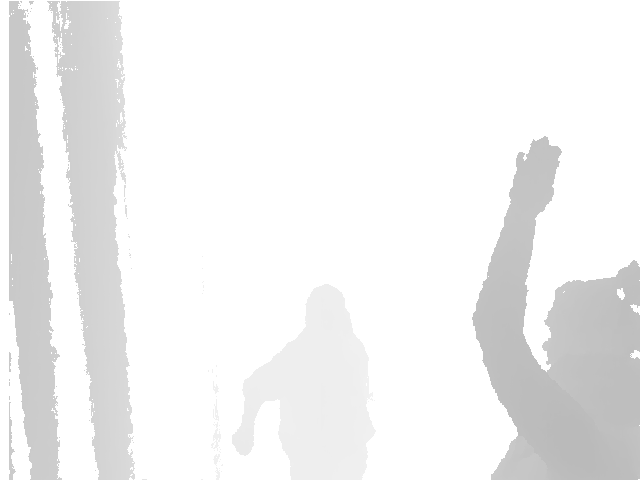hand: (507, 136, 563, 216)
head: (540, 263, 640, 377), (306, 284, 354, 336)
person: (470, 136, 640, 480), (229, 285, 377, 480)
